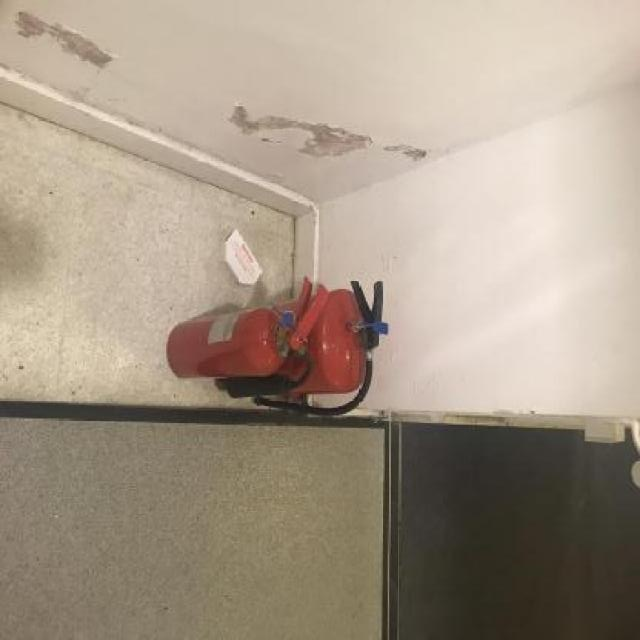fire extinguisher: (165, 278, 331, 400), (255, 278, 390, 417)
